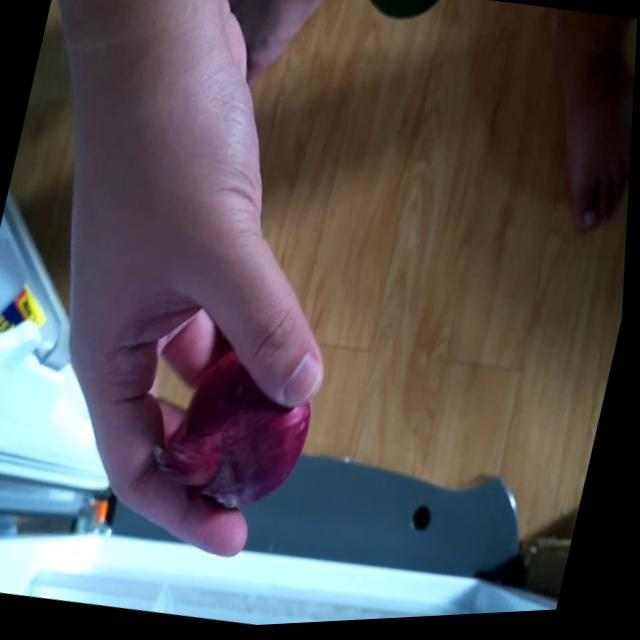onion: (146, 339, 335, 538)
